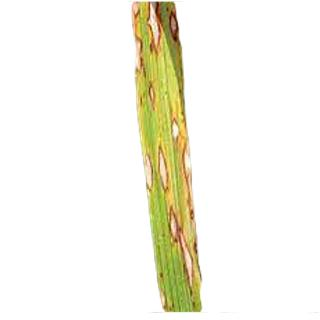Blast: (163, 204, 203, 296), (132, 110, 164, 204), (170, 103, 200, 192), (139, 1, 171, 59), (152, 1, 186, 55), (151, 264, 175, 313)
